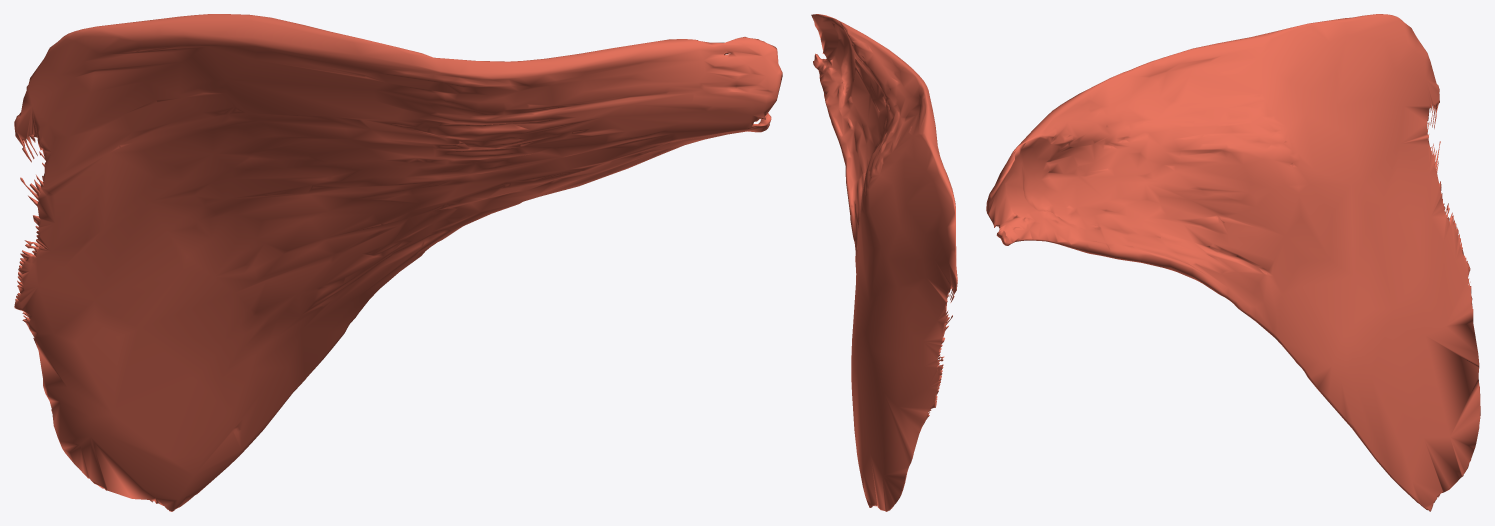
File: subscapularis.glb
3 views of the same model, side by side, from view 1: azimuth 30°, elevation 25°; view 2: azimuth 150°, elevation 25°; view 3: azimuth 270°, elevation 25° (orthographic). The views are drawn at different scales.
Visible parts, largest first — view 1: Subscapular muscle.l; view 2: Subscapular muscle.l; view 3: Subscapular muscle.l.
Boxes of the visible parts, x1,y1,x2,y2 form: Subscapular muscle.l: (14,14,782,511); Subscapular muscle.l: (811,14,957,511); Subscapular muscle.l: (986,14,1480,511).
Size of the model in its own units: 0.105 by 0.1146 by 0.1049.
